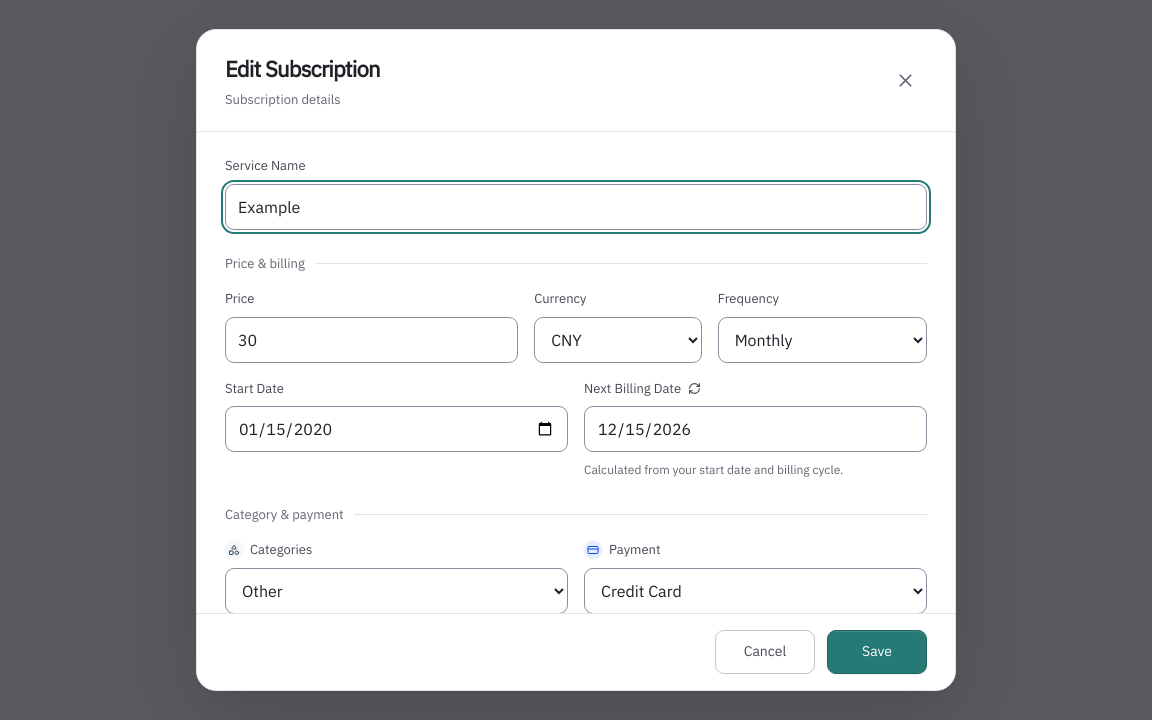
Test case: subscription UI logic › keeps the form open and reports an error when persistence fails
Click the button "Save": [877, 652] box [827,630,927,674]
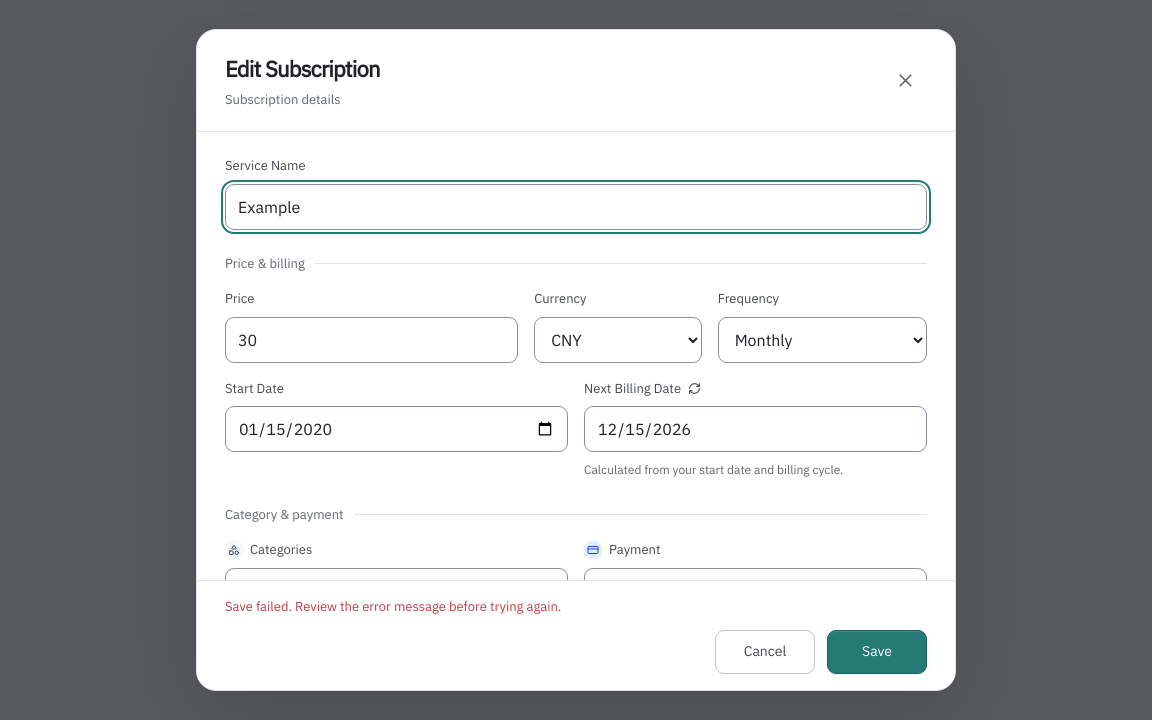
Now the message shows "Save failed", box [225,598,561,615]
